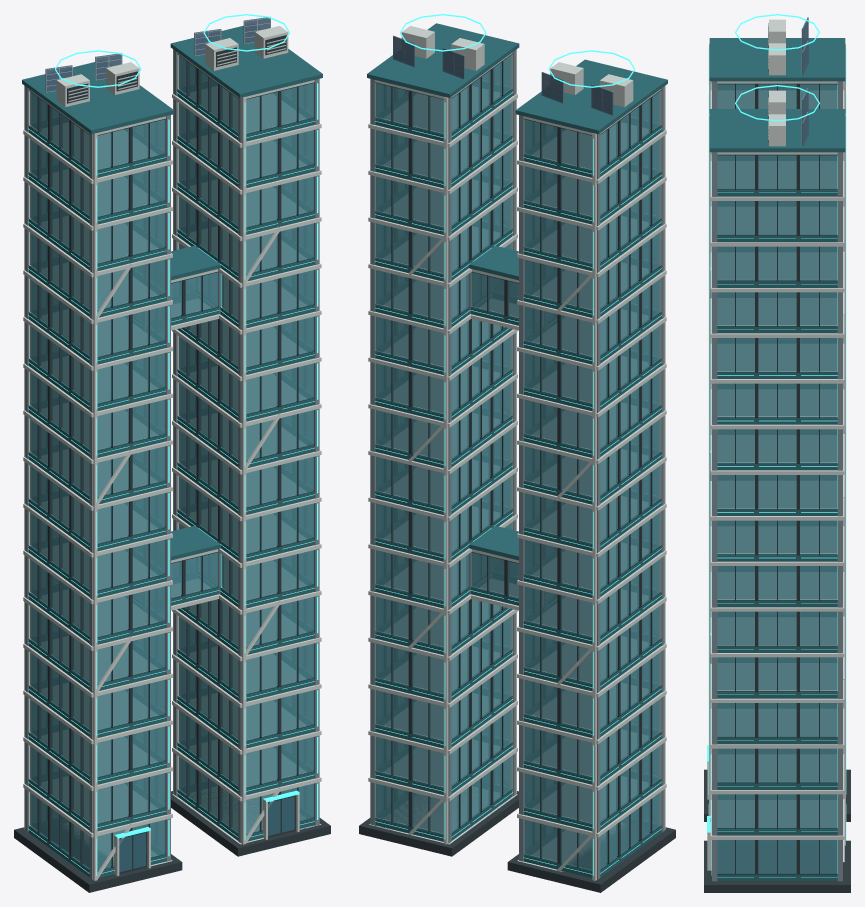
File: Tower_TwinBridge_16F.glb
3 renders of one model, left to right at view 1: azimuth 30°, elevation 25°; view 2: azimuth 150°, elevation 25°; view 3: azimuth 270°, elevation 25°, orthographic. The views are drawn at different scales.
Parts seen in each view (by area): view 1: Tower_TwinBridge_16F__Roof_Coping_Unit, Tower_TwinBridge_16F__Roof_Coping_Unit.001, Tower_TwinBridge_16F__Plinth_Unit, Tower_TwinBridge_16F__Plinth_Unit.001, Tower_TwinBridge_16F__Entry_Airlock.001, Tower_TwinBridge_16F__Entry_Airlock, Tower_TwinBridge_16F__Roof_Coping_Unit.002, Tower_TwinBridge_16F__Facade_Glazing_3m.327, Tower_TwinBridge_16F__Roof_Coping_Unit.003, Tower_TwinBridge_16F__Facade_Glazing_3m.311, Tower_TwinBridge_16F__Facade_Glazing_3m.321, Tower_TwinBridge_16F__Facade_Glazing_3m.151 (+106 smaller); view 2: Tower_TwinBridge_16F__Roof_Coping_Unit, Tower_TwinBridge_16F__Roof_Coping_Unit.001, Tower_TwinBridge_16F__Plinth_Unit, Tower_TwinBridge_16F__Plinth_Unit.001, Tower_TwinBridge_16F__Roof_Coping_Unit.002, Tower_TwinBridge_16F__Facade_Glazing_3m.330, Tower_TwinBridge_16F__Roof_Coping_Unit.003, Tower_TwinBridge_16F__Facade_Glazing_3m.316, Tower_TwinBridge_16F__Facade_Glazing_3m.324, Tower_TwinBridge_16F__Facade_Glazing_3m.156, Tower_TwinBridge_16F__Facade_Glazing_3m.026, Tower_TwinBridge_16F__Facade_Glazing_3m.146 (+108 smaller); view 3: Tower_TwinBridge_16F__Roof_Coping_Unit, Tower_TwinBridge_16F__Roof_Coping_Unit.001, Tower_TwinBridge_16F__Plinth_Unit.001, Tower_TwinBridge_16F__Facade_Glazing_3m.178, Tower_TwinBridge_16F__Facade_Glazing_3m.188, Tower_TwinBridge_16F__Facade_Glazing_3m.198, Tower_TwinBridge_16F__Facade_Glazing_3m.208, Tower_TwinBridge_16F__Facade_Glazing_3m.218, Tower_TwinBridge_16F__Facade_Glazing_3m.228, Tower_TwinBridge_16F__Facade_Glazing_3m.238, Tower_TwinBridge_16F__Facade_Glazing_3m.258, Tower_TwinBridge_16F__Facade_Glazing_3m.268 (+112 smaller).
Boxes of the visible parts, left/top/right/bottom form: Tower_TwinBridge_16F__Roof_Coping_Unit: left=22, top=62, right=174, bottom=134; Tower_TwinBridge_16F__Roof_Coping_Unit.001: left=170, top=25, right=322, bottom=97; Tower_TwinBridge_16F__Plinth_Unit: left=14, top=827, right=182, bottom=892; Tower_TwinBridge_16F__Plinth_Unit.001: left=171, top=791, right=330, bottom=856; Tower_TwinBridge_16F__Entry_Airlock.001: left=262, top=790, right=299, bottom=839; Tower_TwinBridge_16F__Entry_Airlock: left=114, top=827, right=150, bottom=876; Tower_TwinBridge_16F__Roof_Coping_Unit.002: left=171, top=525, right=220, bottom=560; Tower_TwinBridge_16F__Facade_Glazing_3m.327: left=185, top=272, right=218, bottom=313; Tower_TwinBridge_16F__Roof_Coping_Unit.003: left=171, top=245, right=220, bottom=280; Tower_TwinBridge_16F__Facade_Glazing_3m.311: left=281, top=83, right=313, bottom=124; Tower_TwinBridge_16F__Facade_Glazing_3m.321: left=185, top=552, right=218, bottom=593; Tower_TwinBridge_16F__Facade_Glazing_3m.151: left=132, top=119, right=165, bottom=160; Tower_TwinBridge_16F__Roof_Coping_Unit: left=515, top=59, right=667, bottom=134; Tower_TwinBridge_16F__Roof_Coping_Unit.001: left=367, top=23, right=519, bottom=97; Tower_TwinBridge_16F__Plinth_Unit: left=507, top=827, right=675, bottom=892; Tower_TwinBridge_16F__Plinth_Unit.001: left=359, top=791, right=518, bottom=856; Tower_TwinBridge_16F__Roof_Coping_Unit.002: left=469, top=525, right=518, bottom=560; Tower_TwinBridge_16F__Facade_Glazing_3m.330: left=471, top=272, right=504, bottom=313; Tower_TwinBridge_16F__Roof_Coping_Unit.003: left=469, top=245, right=518, bottom=280; Tower_TwinBridge_16F__Facade_Glazing_3m.316: left=376, top=83, right=408, bottom=124; Tower_TwinBridge_16F__Facade_Glazing_3m.324: left=471, top=552, right=504, bottom=593; Tower_TwinBridge_16F__Facade_Glazing_3m.156: left=524, top=119, right=557, bottom=160; Tower_TwinBridge_16F__Facade_Glazing_3m.026: left=524, top=726, right=557, bottom=767; Tower_TwinBridge_16F__Facade_Glazing_3m.146: left=524, top=166, right=557, bottom=207; Tower_TwinBridge_16F__Roof_Coping_Unit: left=709, top=38, right=845, bottom=81; Tower_TwinBridge_16F__Roof_Coping_Unit.001: left=709, top=109, right=845, bottom=152; Tower_TwinBridge_16F__Plinth_Unit.001: left=704, top=840, right=850, bottom=892; Tower_TwinBridge_16F__Facade_Glazing_3m.178: left=758, top=794, right=796, bottom=827; Tower_TwinBridge_16F__Facade_Glazing_3m.188: left=758, top=748, right=796, bottom=781; Tower_TwinBridge_16F__Facade_Glazing_3m.198: left=758, top=703, right=796, bottom=736; Tower_TwinBridge_16F__Facade_Glazing_3m.208: left=758, top=657, right=796, bottom=690; Tower_TwinBridge_16F__Facade_Glazing_3m.218: left=758, top=611, right=796, bottom=644; Tower_TwinBridge_16F__Facade_Glazing_3m.228: left=758, top=566, right=796, bottom=599; Tower_TwinBridge_16F__Facade_Glazing_3m.238: left=758, top=520, right=796, bottom=553; Tower_TwinBridge_16F__Facade_Glazing_3m.258: left=758, top=429, right=796, bottom=462; Tower_TwinBridge_16F__Facade_Glazing_3m.268: left=758, top=383, right=796, bottom=416.
Size of the model in its own units: 19.5 by 60.58 by 10.5.
